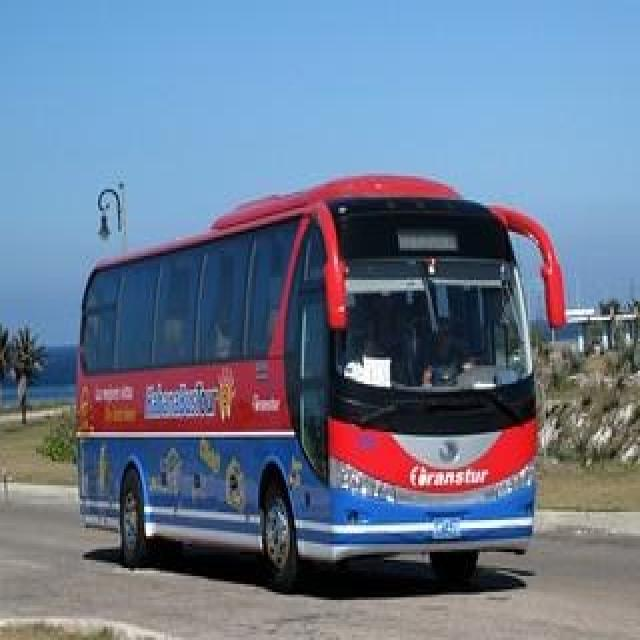Bus: (97, 213, 526, 551)
